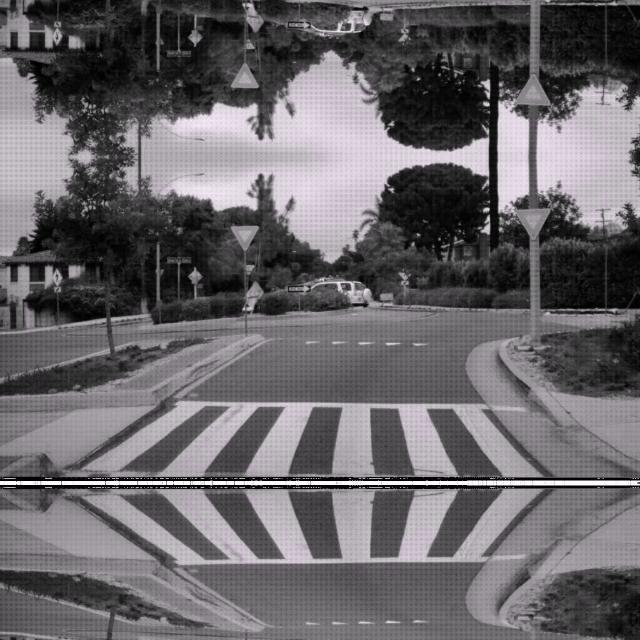yield: (516, 206, 550, 238), (516, 74, 550, 106), (230, 223, 258, 249), (230, 63, 258, 89)
